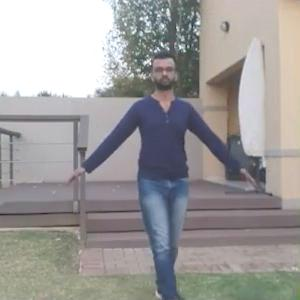land: (66, 61, 233, 296)
